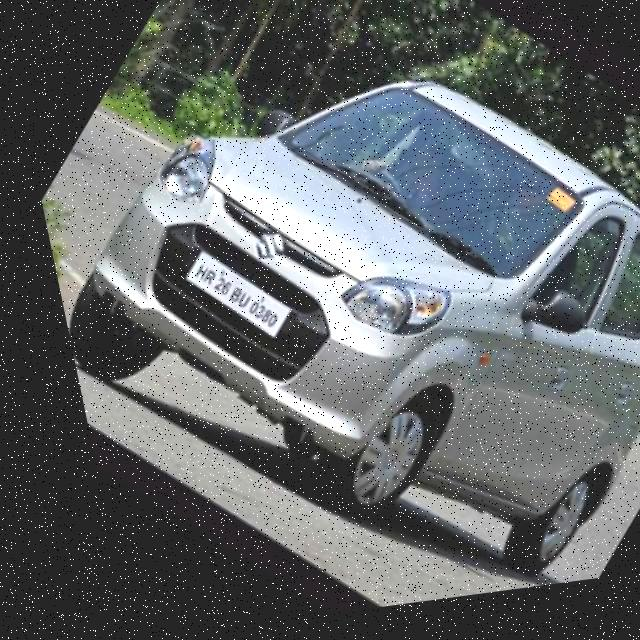license_plate: (158, 240, 288, 358)
